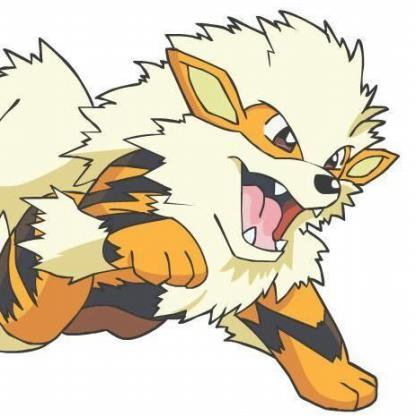Arcanine: (1, 17, 389, 410)
